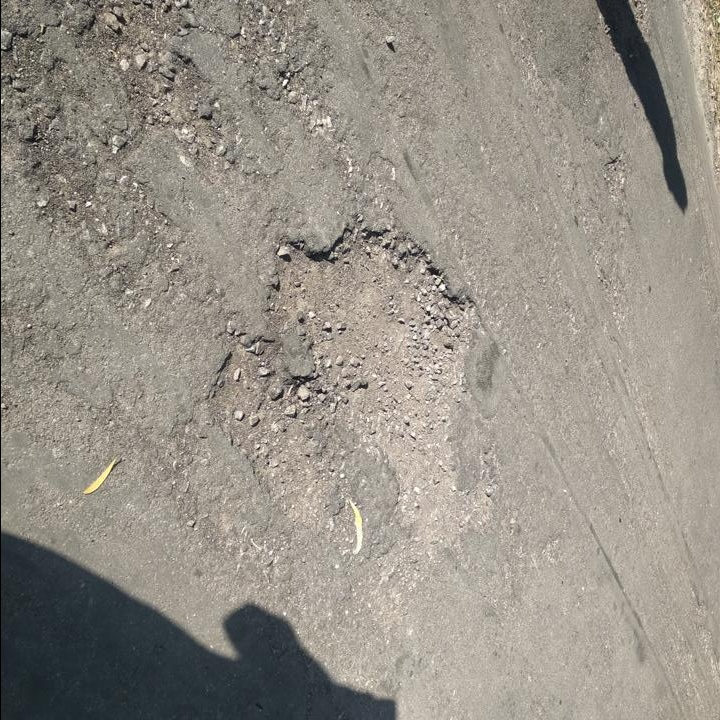pothole: (205, 217, 498, 587)
